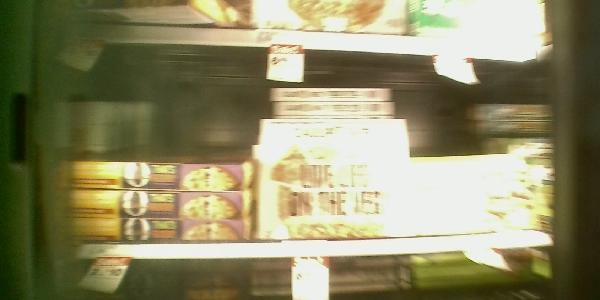pizza: (410, 159, 533, 235)
pizza1: (261, 122, 407, 241), (47, 162, 243, 192), (56, 193, 247, 220), (62, 218, 249, 238), (271, 101, 395, 119), (269, 86, 394, 103), (472, 141, 556, 160), (469, 122, 553, 140), (470, 104, 553, 120)
